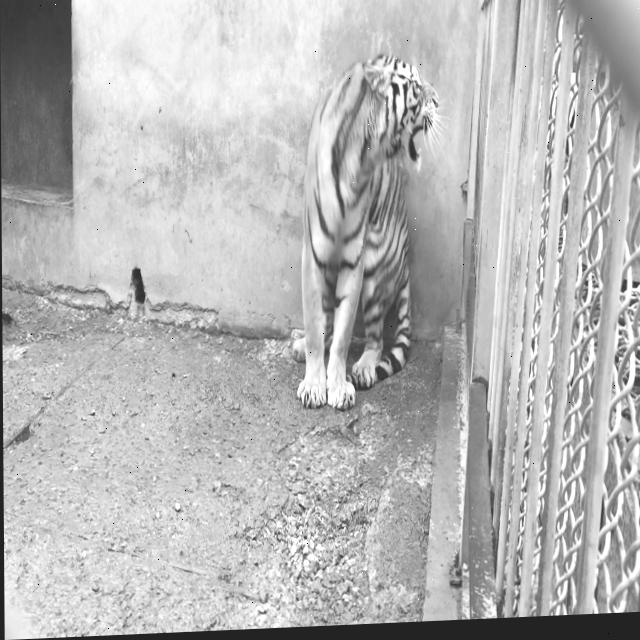Tiger: (290, 49, 452, 413)
